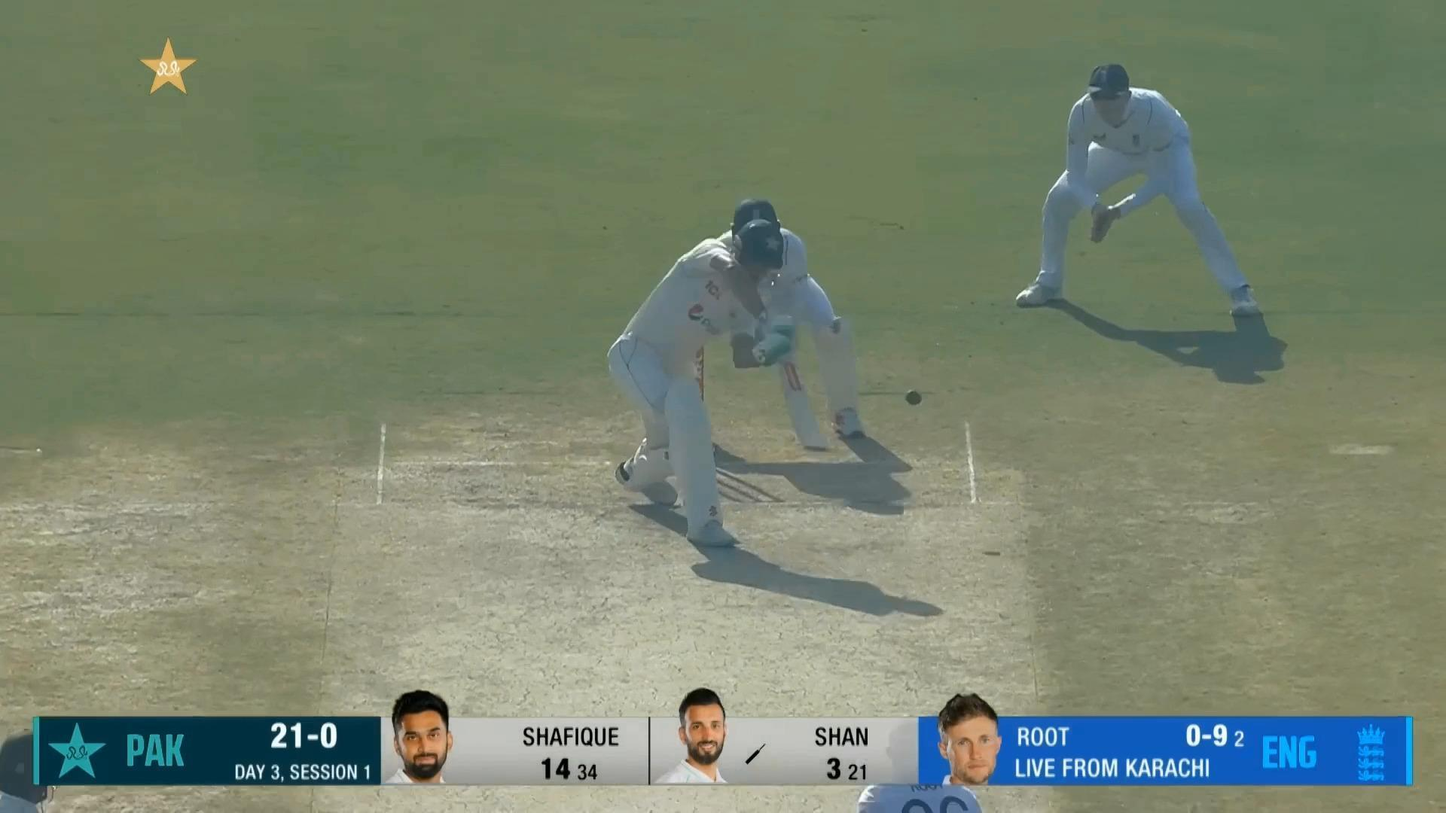BM 1: (607, 220, 827, 548)
BO: (854, 716, 988, 813)
